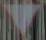Give way: (0, 1, 43, 39)
